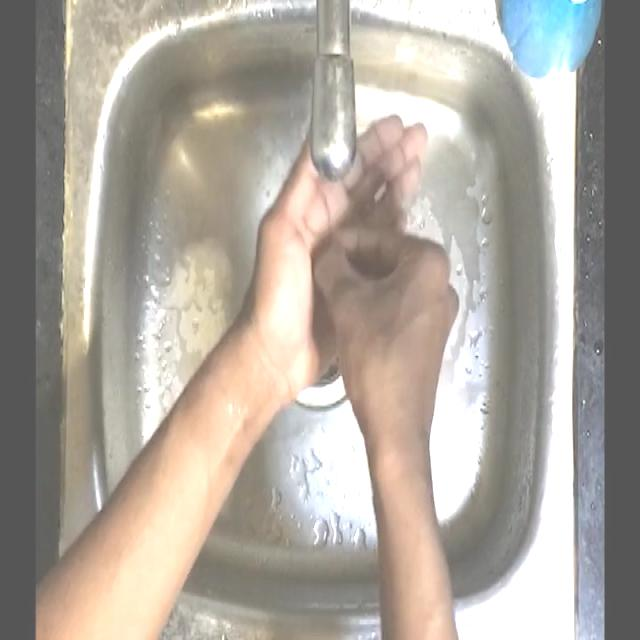step_6: (243, 100, 468, 410)
